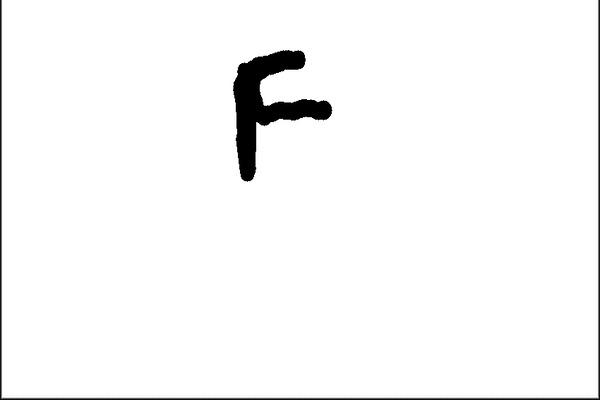F: (223, 45, 338, 186)
